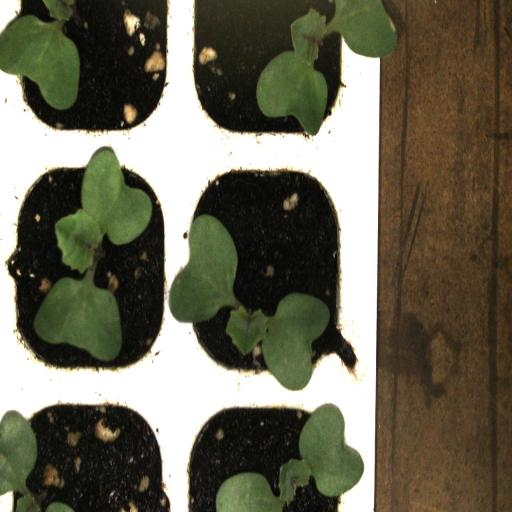Folha: (0, 0, 80, 110), (0, 415, 74, 512)
Germinacao: (0, 158, 179, 381), (181, 157, 350, 391), (11, 0, 181, 151), (187, 0, 351, 150), (184, 389, 359, 512)
